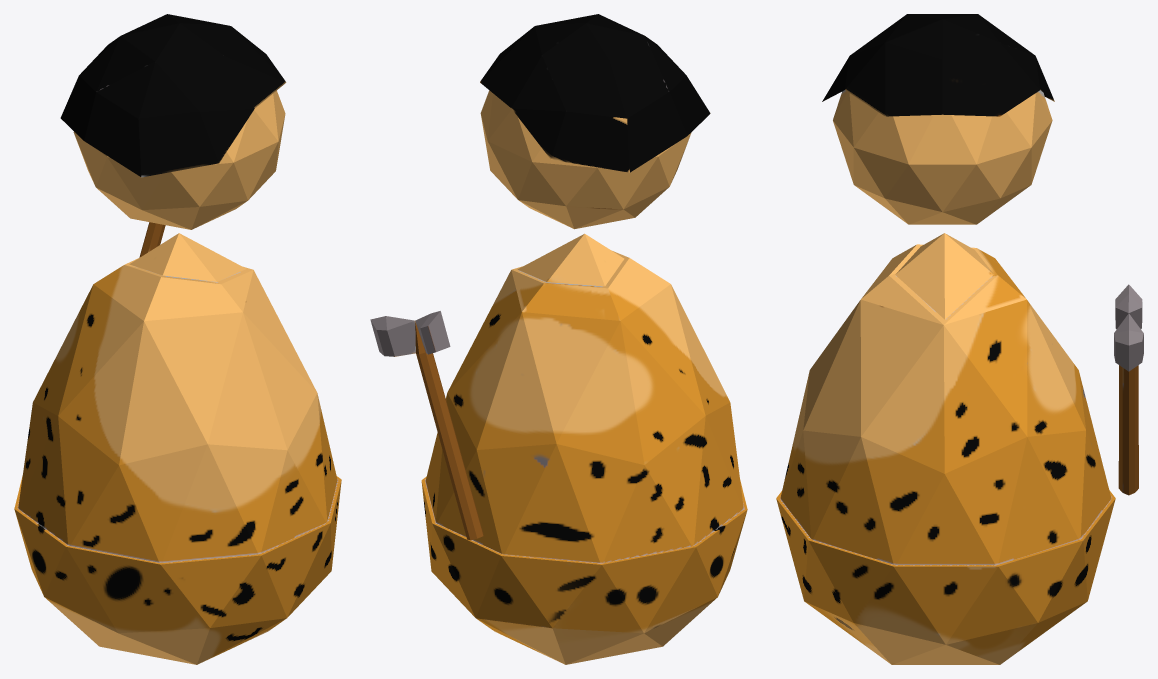
File: Peep3.fbx
3 renders of one model, left to right at view 1: azimuth 30°, elevation 25°; view 2: azimuth 150°, elevation 25°; view 3: azimuth 270°, elevation 25°, orthographic.
Parts seen in each view (by area): view 1: Person 4; view 2: Person 4; view 3: Person 4.
Boxes of the visible parts, x1=… form: Person 4: x1=14, y1=14, x2=341, y2=664; Person 4: x1=370, y1=14, x2=747, y2=664; Person 4: x1=776, y1=14, x2=1143, y2=664.
Size of the model in its own units: 51.31 by 98.25 by 45.08.
